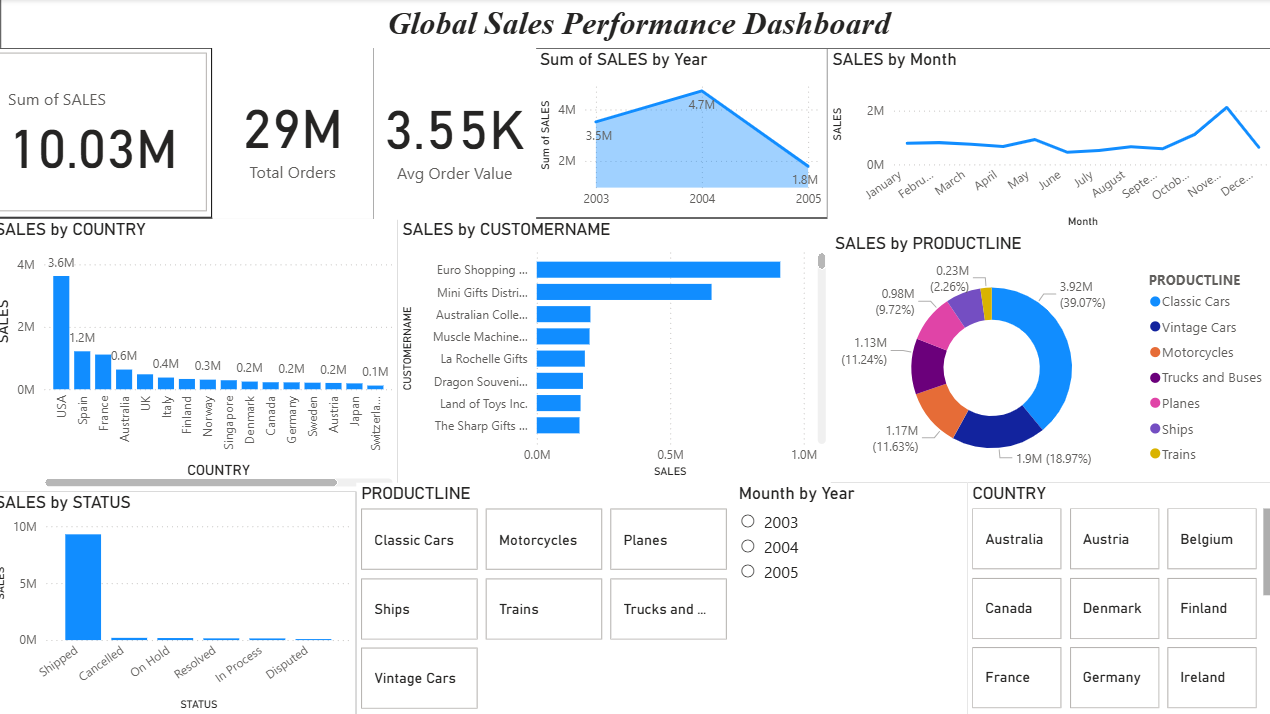

Layout of this report page (visuals, bound fields, positions):
{"tool":"powerbi","page":{"name":"Page 1","canvas":[1280,720],"ordinal":0},"visuals":[{"type":"clusteredColumnChart","fields":{"Category":["sales_data_sample.COUNTRY"],"Y":["Sum(sales_data_sample.SALES)"]},"box":[0,218.6,405.7,271.4],"z":0},{"type":"lineChart","fields":{"Y":["Sum(sales_data_sample.SALES)"],"Category":["sales_data_sample.ORDERDATE.Variation.Date Hierarchy.Year"]},"box":[542.9,50,290,167.1],"z":1000},{"type":"cardVisual","fields":{"Data":["Sum(sales_data_sample.SALES)"]},"box":[0,48.6,221.4,168.6],"z":2000},{"type":"lineChart","fields":{"Y":["Sum(sales_data_sample.SALES)"],"Category":["sales_data_sample.ORDERDATE.Variation.Date Hierarchy.Month"]},"box":[832.9,50,447.1,182.9],"z":3000},{"type":"clusteredBarChart","fields":{"Category":["sales_data_sample.CUSTOMERNAME"],"Y":["Sum(sales_data_sample.SALES)"]},"box":[405.7,218.6,431.4,262.9],"z":4000},{"type":"donutChart","fields":{"Category":["sales_data_sample.PRODUCTLINE"],"Y":["Sum(sales_data_sample.SALES)"]},"box":[835.7,232.9,444.3,248.6],"z":5000},{"type":"clusteredColumnChart","fields":{"Category":["sales_data_sample.STATUS"],"Y":["Sum(sales_data_sample.SALES)"]},"box":[0,490,364.3,222.9],"z":6000},{"type":"advancedSlicerVisual","fields":{"Values":["sales_data_sample.COUNTRY"]},"box":[972.9,481.4,307.1,231.4],"z":7000},{"type":"listSlicer","fields":{"Values":["sales_data_sample.ORDERDATE.Variation.Date Hierarchy.Year"]},"box":[740,481.4,232.9,231.4],"z":8000},{"type":"textbox","box":[11.4,0,1268.6,48.6],"z":9000},{"type":"card","fields":{"Values":["Sum(sales_data_sample.ORDERNUMBER)"]},"box":[221.4,48.6,160,170],"z":10000},{"type":"advancedSlicerVisual","fields":{"Values":["sales_data_sample.PRODUCTLINE"]},"box":[364.3,481.4,375.7,231.4],"z":10001},{"type":"card","fields":{"Values":["sales_data_sample.Avg Order Value"]},"box":[381.4,48.6,161.4,171.4],"z":10002}]}

Visuals, with their boxes in screenshot pixels (x1, y1, x2, y2), scaled from the page's 1280x720 canvas onto the 1270x714 screenshot:
clusteredColumnChart - sales_data_sample.COUNTRY x Sum(sales_data_sample.SALES): 0 217 403 486
lineChart - Sum(sales_data_sample.SALES) x sales_data_sample.ORDERDATE.Variation.Date Hierarchy.Year: 539 50 826 215
cardVisual - Sum(sales_data_sample.SALES): 0 48 220 215
lineChart - Sum(sales_data_sample.SALES) x sales_data_sample.ORDERDATE.Variation.Date Hierarchy.Month: 826 50 1269 231
clusteredBarChart - sales_data_sample.CUSTOMERNAME x Sum(sales_data_sample.SALES): 403 217 831 477
donutChart - sales_data_sample.PRODUCTLINE x Sum(sales_data_sample.SALES): 829 231 1269 477
clusteredColumnChart - sales_data_sample.STATUS x Sum(sales_data_sample.SALES): 0 486 361 707
advancedSlicerVisual - sales_data_sample.COUNTRY: 965 477 1269 707
listSlicer - sales_data_sample.ORDERDATE.Variation.Date Hierarchy.Year: 734 477 965 707
textbox: 11 0 1269 48
card - Sum(sales_data_sample.ORDERNUMBER): 220 48 378 217
advancedSlicerVisual - sales_data_sample.PRODUCTLINE: 361 477 734 707
card - sales_data_sample.Avg Order Value: 378 48 539 218
